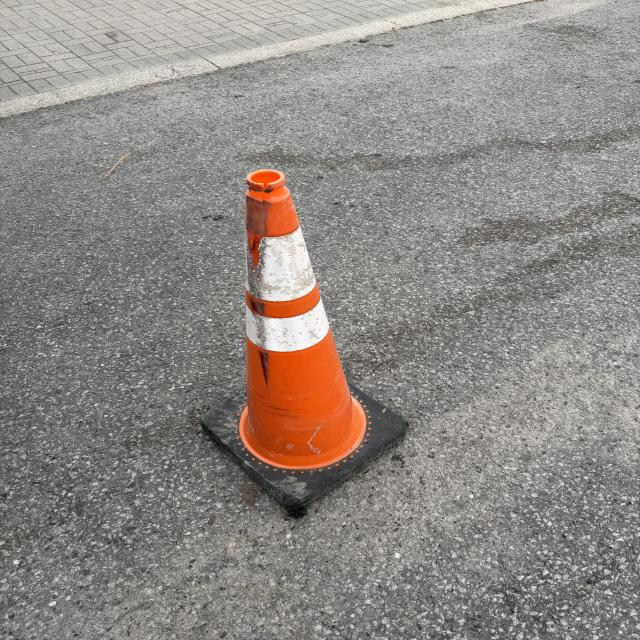Traffic Cone: (198, 170, 415, 519)
